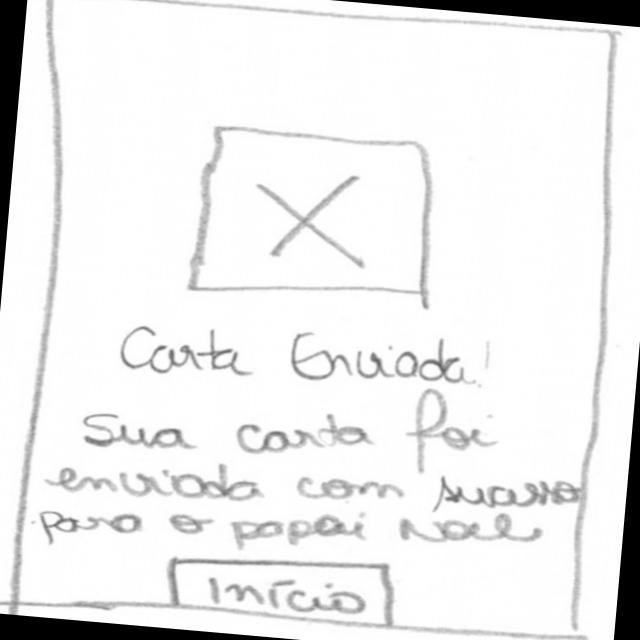button: (156, 544, 408, 628)
container: (0, 0, 632, 640)
image: (186, 120, 450, 315)
label: (98, 299, 502, 402)
textbox: (31, 360, 584, 587)
